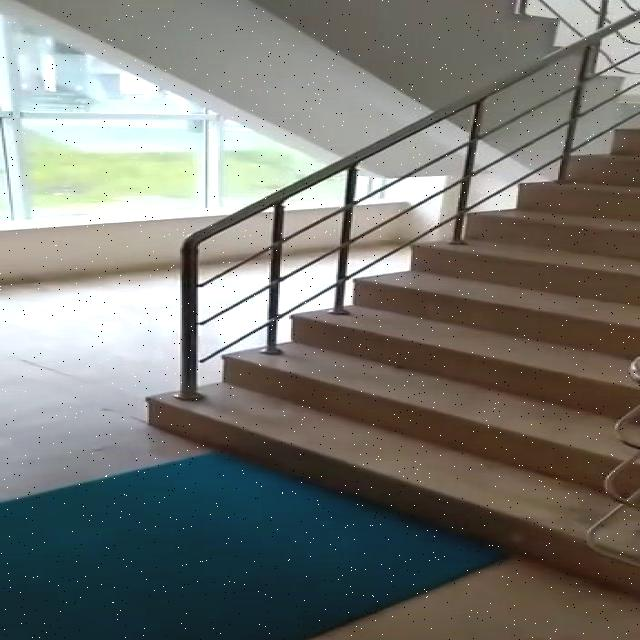stairs: (144, 124, 638, 594)
